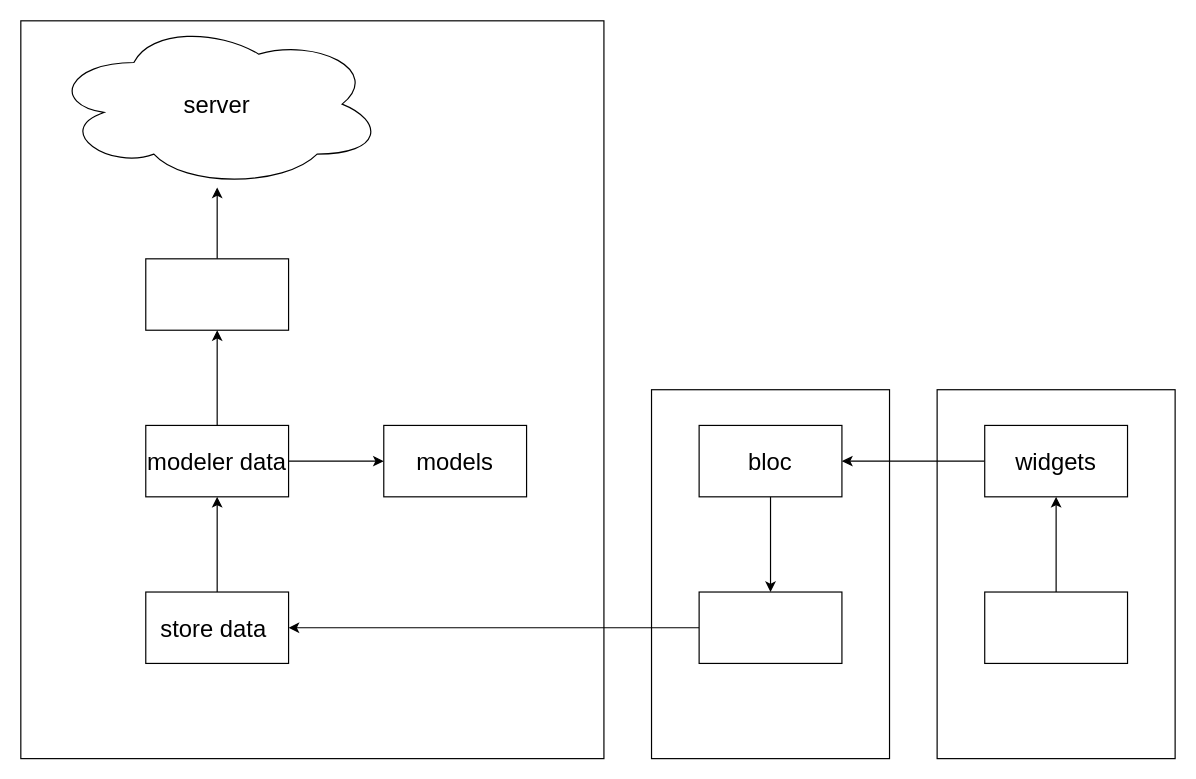
Image size: 1196x779. Some labels were removed from this diagram. The shapes that lost their labels are listed below. From the top down, each one's box as (x1, y1, x2, y2) in pixels, then its label:
(145, 258, 289, 330): data provider
(698, 591, 842, 663): business logic
(984, 591, 1128, 663): screen
